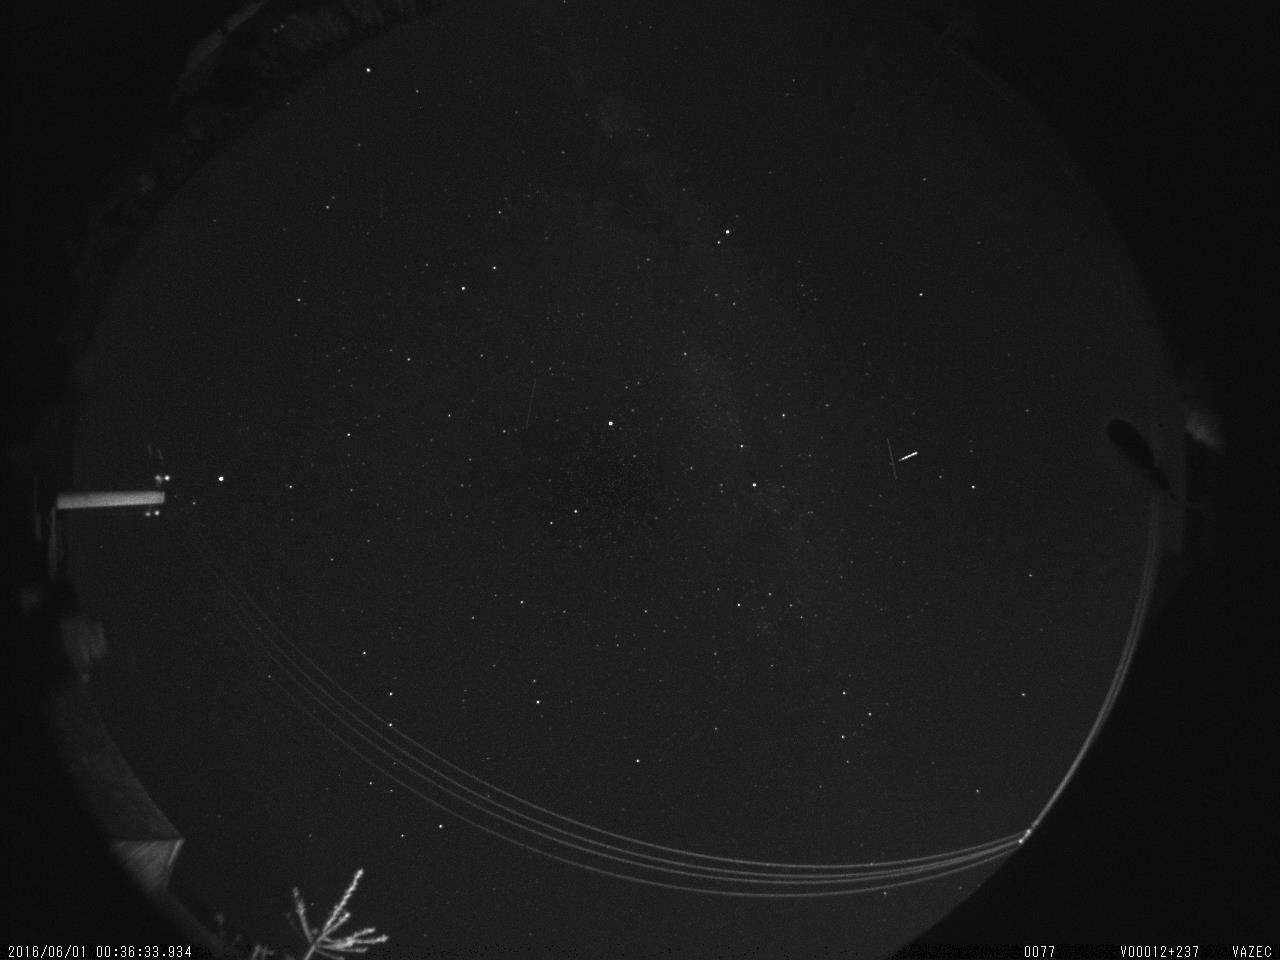meteor: (896, 443, 928, 470)
